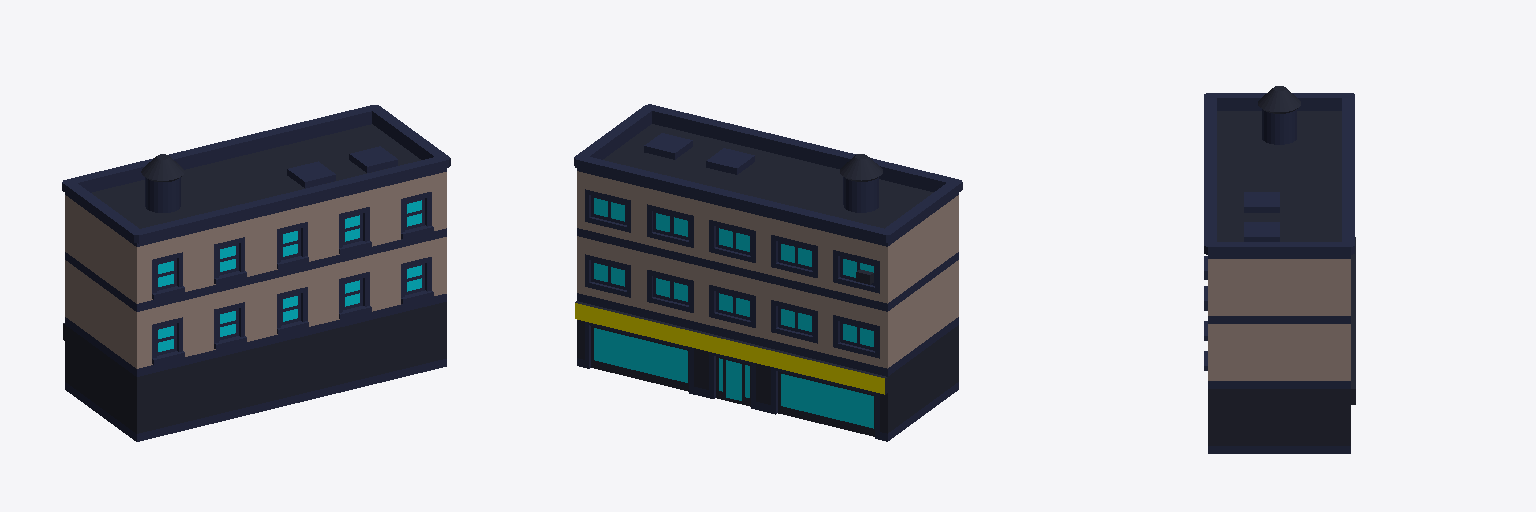
The model's file is large_buildingF_CyPk.obj.
3 renders of one model, left to right at view 1: azimuth 30°, elevation 25°; view 2: azimuth 150°, elevation 25°; view 3: azimuth 270°, elevation 25°, orthographic.
Visible parts, largest first — view 1: large_buildingF; view 2: large_buildingF; view 3: large_buildingF.
Part boxes in pixels (bbox=[...]): large_buildingF: bbox=[62, 105, 450, 441]; large_buildingF: bbox=[574, 104, 962, 441]; large_buildingF: bbox=[1204, 86, 1355, 453].
Bounding box in the file's own units: 2.04 × 1.5 × 0.845.